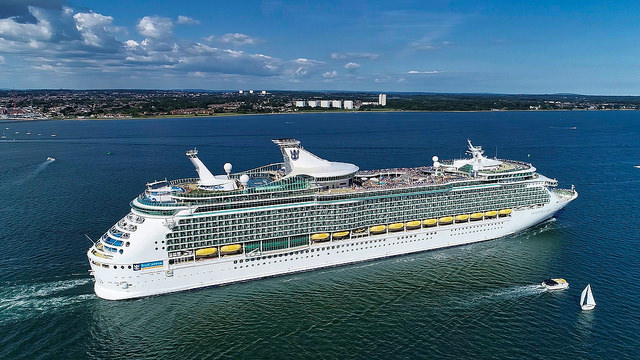boat: (574, 284, 599, 316), (539, 271, 570, 289), (44, 153, 60, 163)
cruise_ship: (80, 136, 583, 302)
